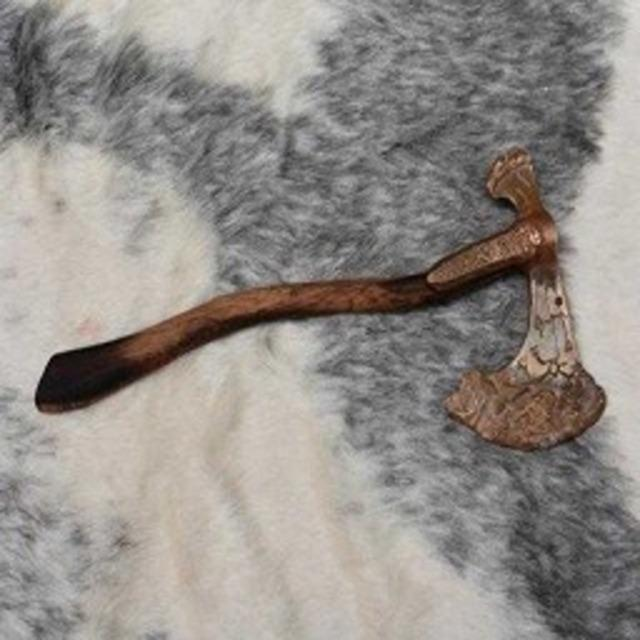ax: (28, 142, 612, 462)
